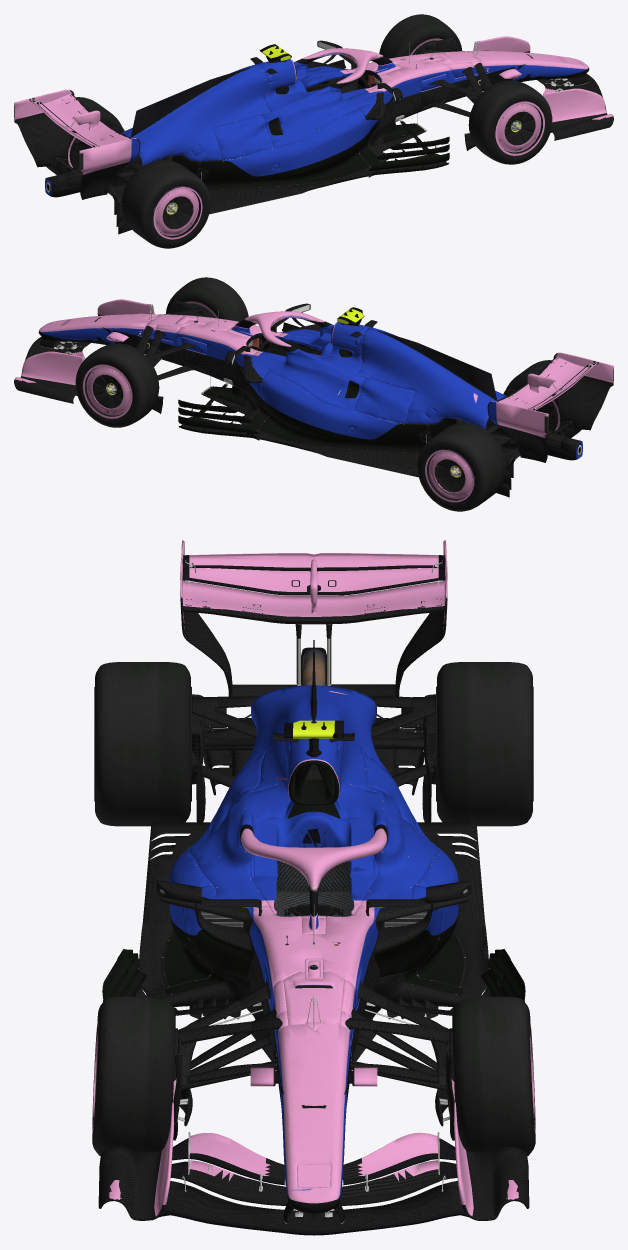
File: alpine.glb
The picture shows the model from 3 angles, top to bottom: view 1: azimuth 30°, elevation 25°; view 2: azimuth 150°, elevation 25°; view 3: azimuth 270°, elevation 25°; orthographic projection. The views are drawn at different scales.
Visible parts, largest first — view 1: Object_9, Object_8, Object_14, Object_4, Object_12, Object_13, Object_7, Object_5, Object_6; view 2: Object_9, Object_8, Object_14, Object_4, Object_12, Object_13, Object_7, Object_5, Object_6; view 3: Object_8, Object_9, Object_14, Object_4, Object_7, Object_6, Object_5, Object_13, Object_12.
Boxes of the visible parts, x1,y1,x2,y2 form: Object_9: [29, 44, 606, 197]; Object_8: [14, 36, 613, 234]; Object_14: [46, 14, 552, 248]; Object_4: [61, 36, 510, 190]; Object_12: [67, 38, 544, 239]; Object_13: [62, 31, 550, 245]; Object_7: [312, 37, 483, 138]; Object_5: [34, 40, 587, 202]; Object_6: [226, 74, 380, 159]; Object_9: [21, 307, 598, 460]; Object_8: [14, 299, 613, 497]; Object_14: [75, 277, 581, 511]; Object_4: [117, 299, 566, 453]; Object_12: [82, 301, 560, 502]; Object_13: [77, 294, 565, 508]; Object_7: [144, 300, 315, 401]; Object_5: [40, 303, 593, 465]; Object_6: [213, 337, 395, 422]; Object_8: [98, 540, 529, 1235]; Object_9: [154, 543, 473, 1235]; Object_14: [94, 662, 533, 1156]; Object_4: [102, 580, 525, 1140]; Object_7: [160, 896, 467, 1137]; Object_6: [198, 857, 433, 1011]; Object_5: [138, 560, 489, 1223]; Object_13: [92, 673, 535, 1148]; Object_12: [92, 686, 535, 1133].
Size of the model in its own units: 5.49 by 1.21 by 1.94.
Materials: 15 (10 with a texture image).
